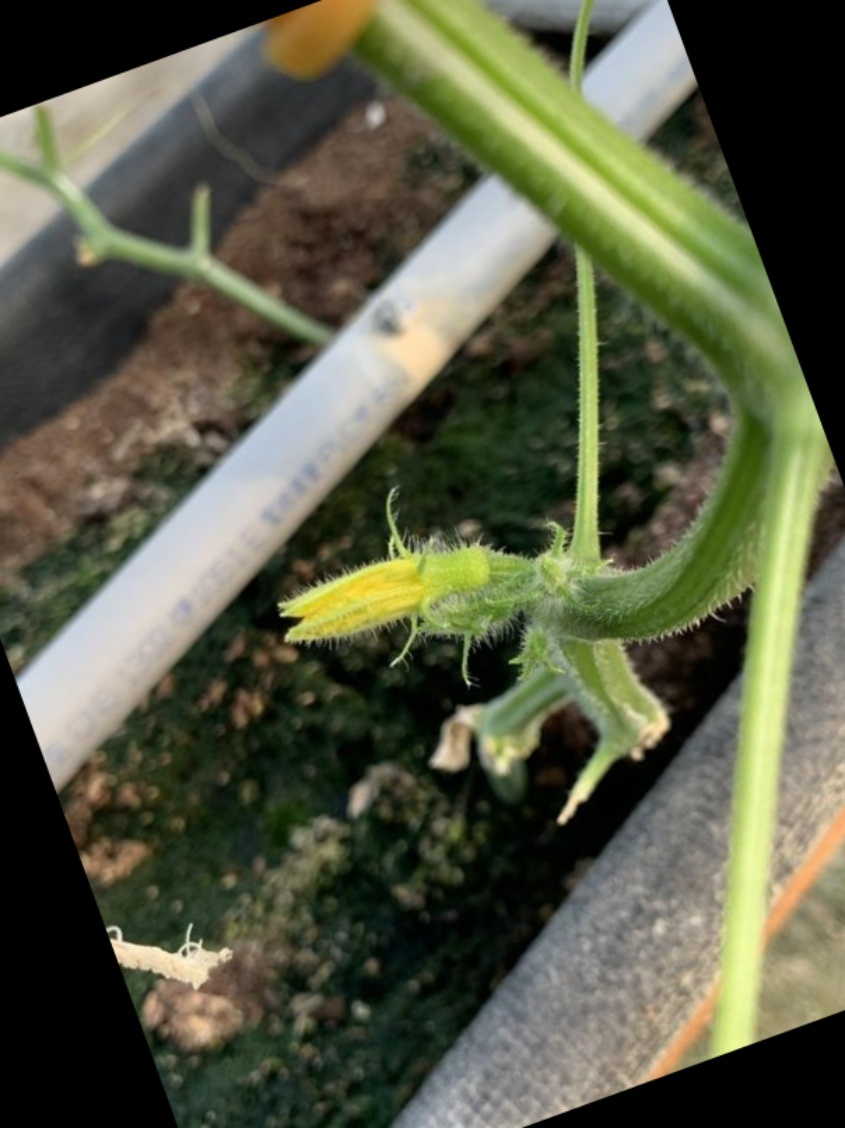bud: (274, 539, 531, 670)
